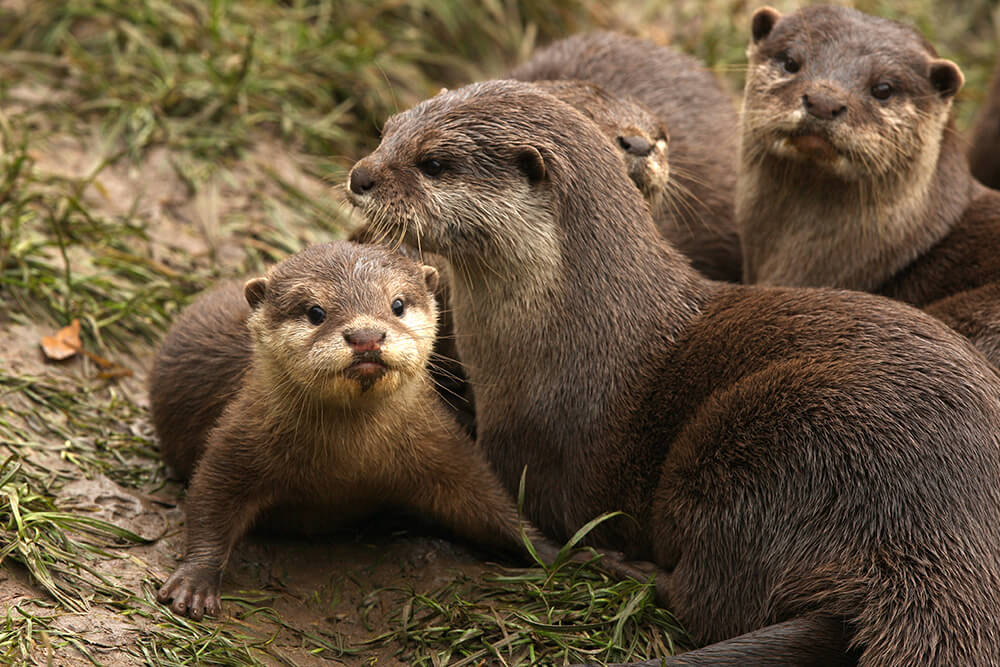otter: (357, 81, 984, 667), (93, 237, 519, 581), (735, 8, 1000, 293)
